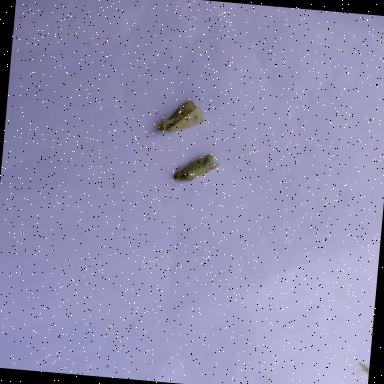abw: (152, 96, 208, 137), (163, 148, 222, 186)
